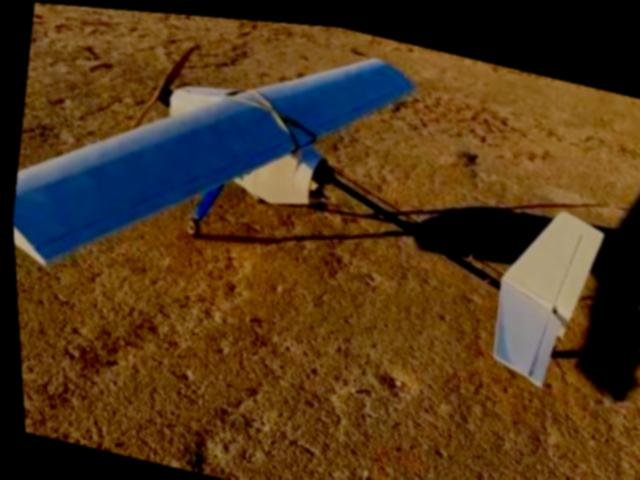uav: (0, 0, 631, 390)
